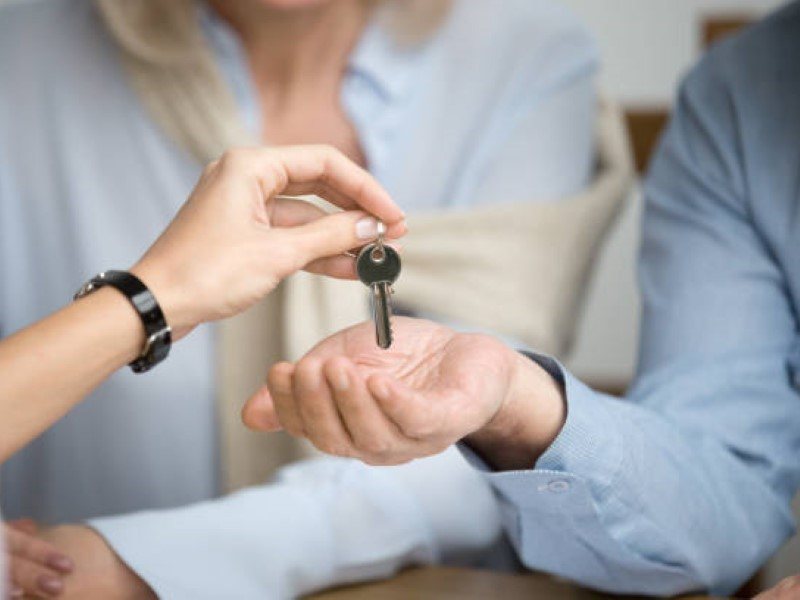key: (353, 240, 405, 346)
